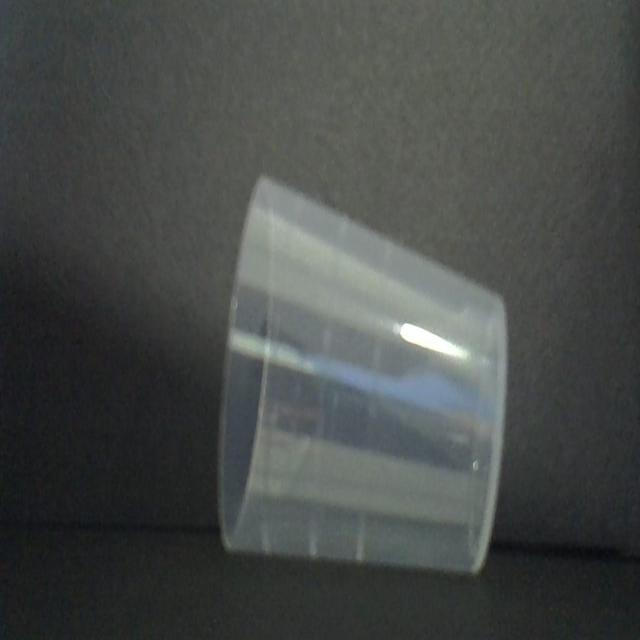cup: (209, 173, 513, 577)
